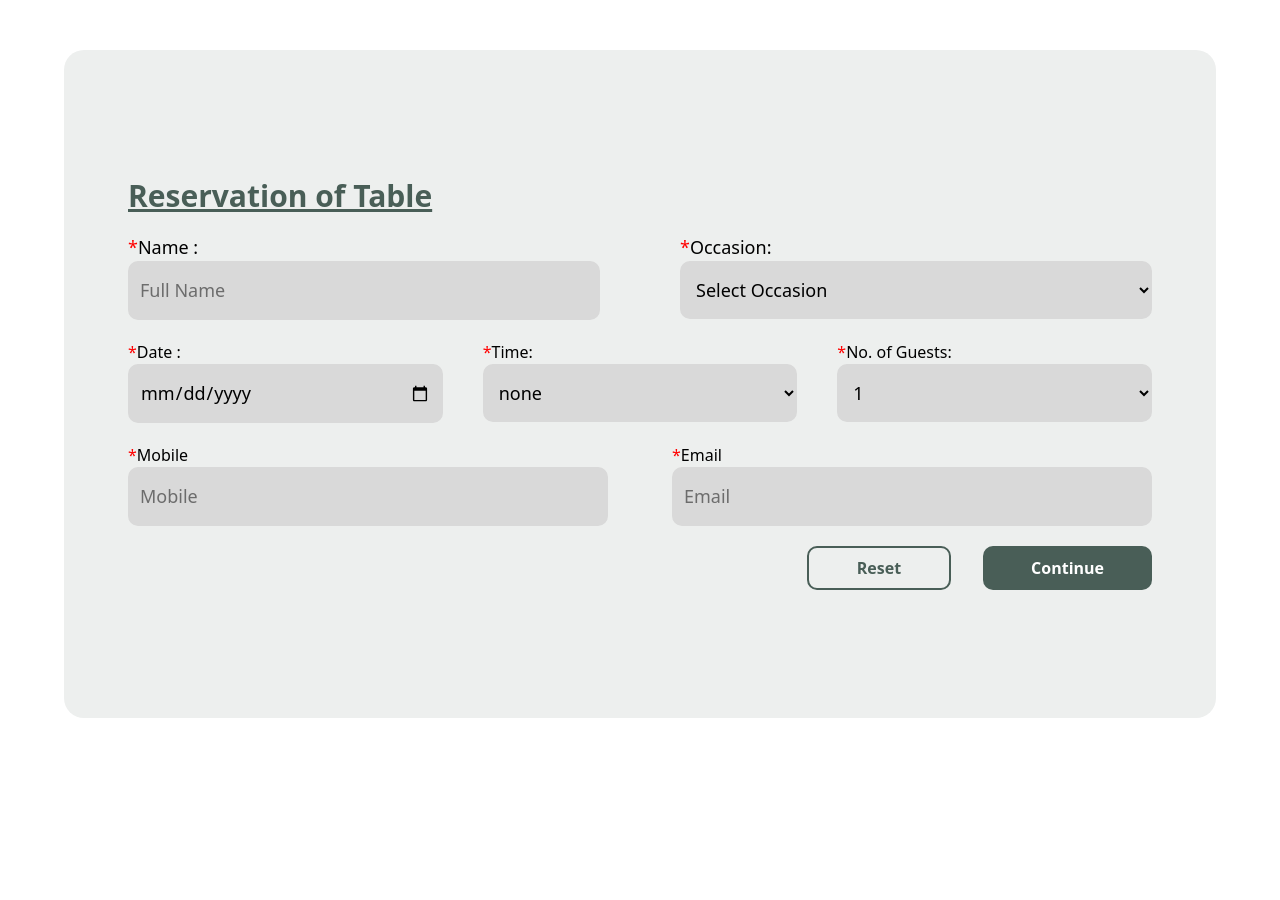
Test: ReservationSection1 › success message appears for valid name
Вводим валидное имя
In the field labelled "*Name :": (364, 290) [128,261,600,320], type "John Doe"
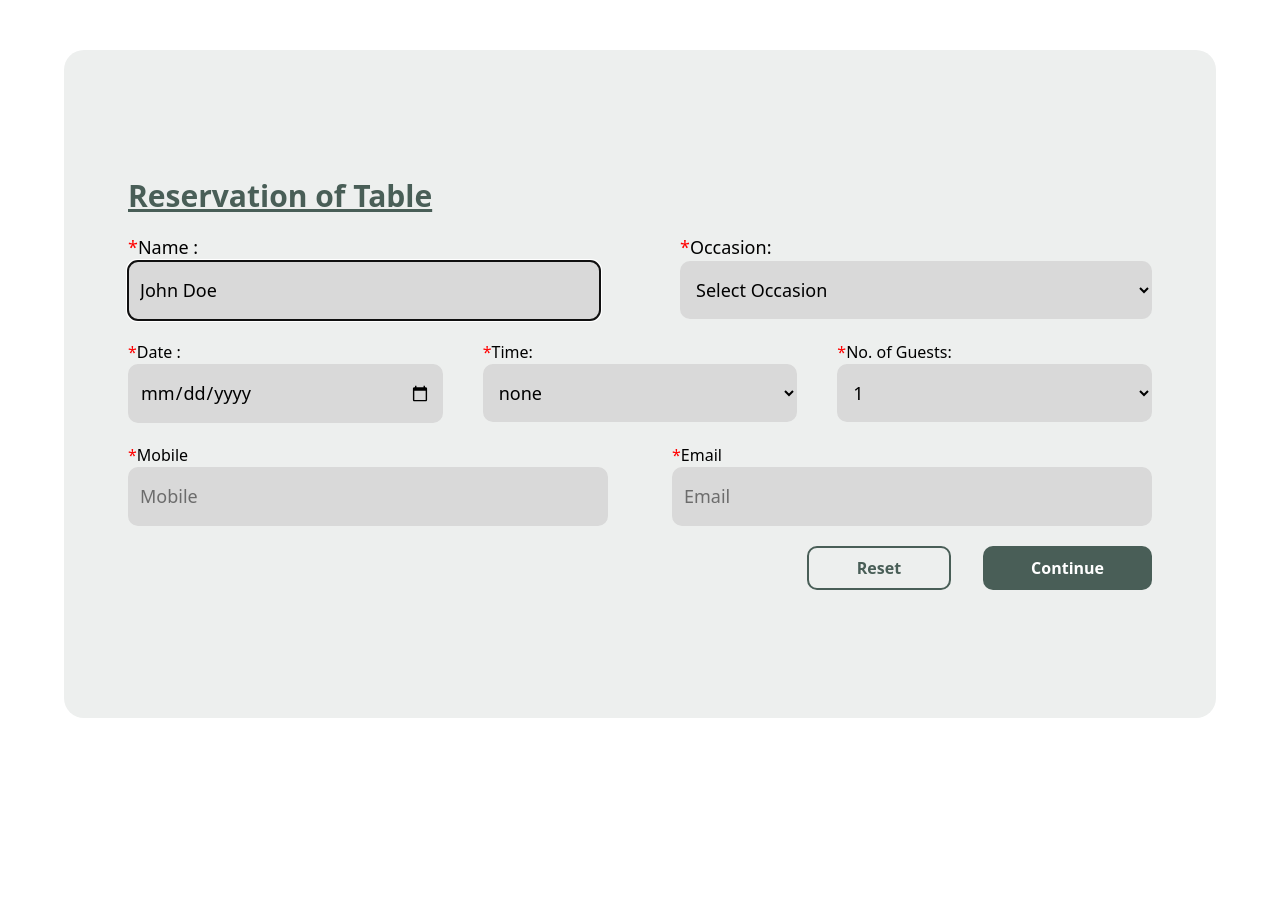
Press Tab
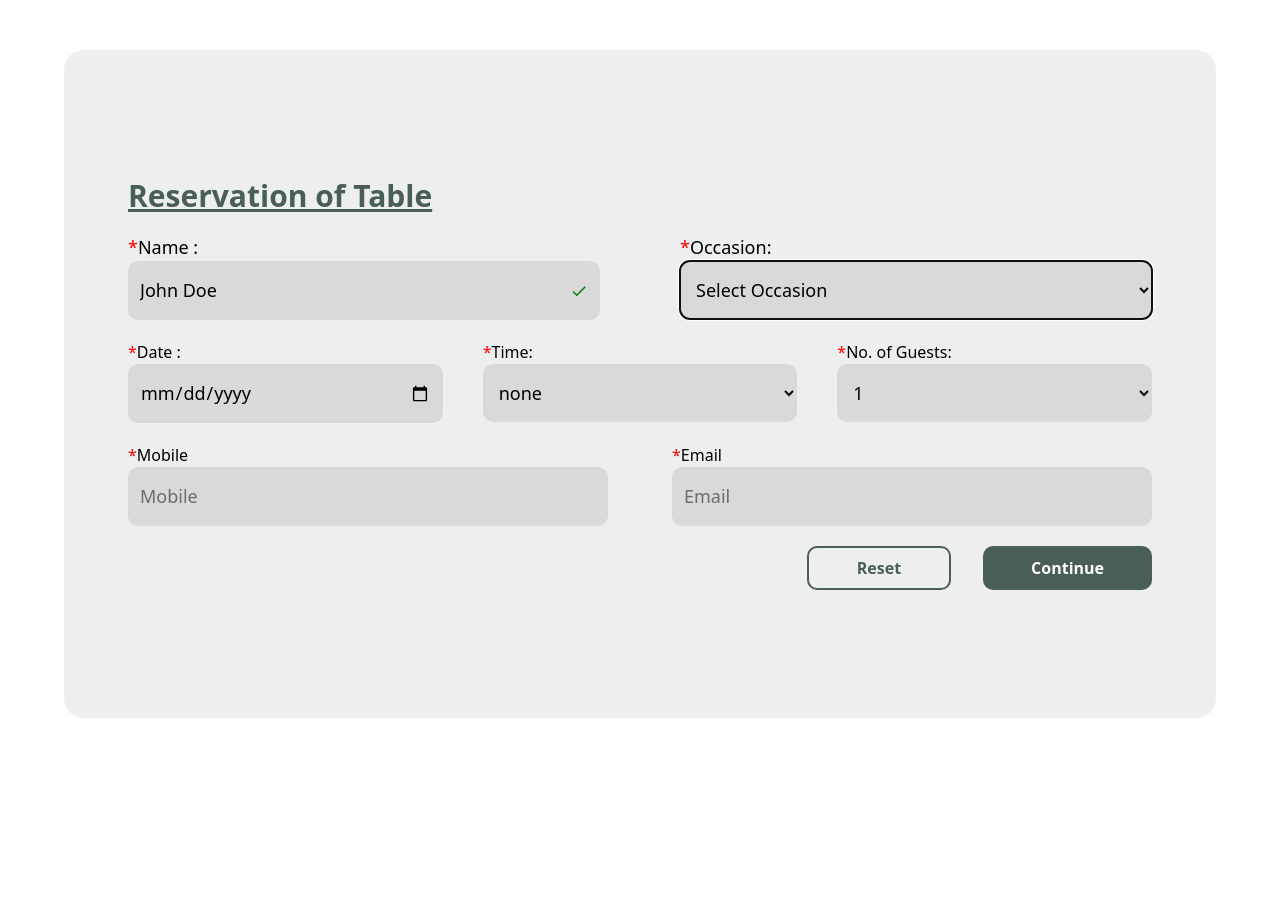
Check: the element with test id "success-message" is shown, box [570,282,588,300]
